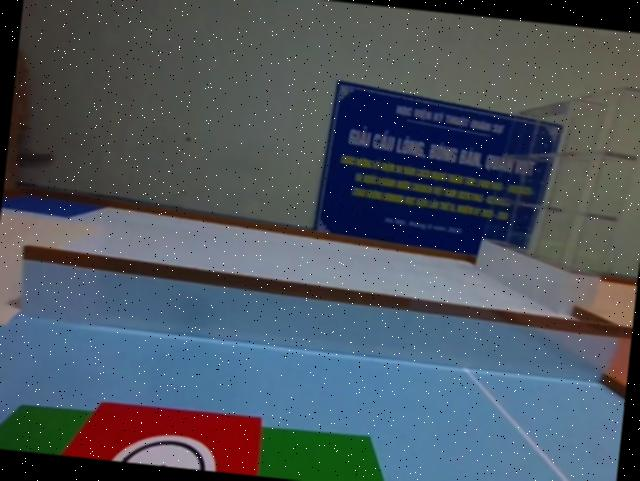R2 Real: (49, 394, 262, 476)
